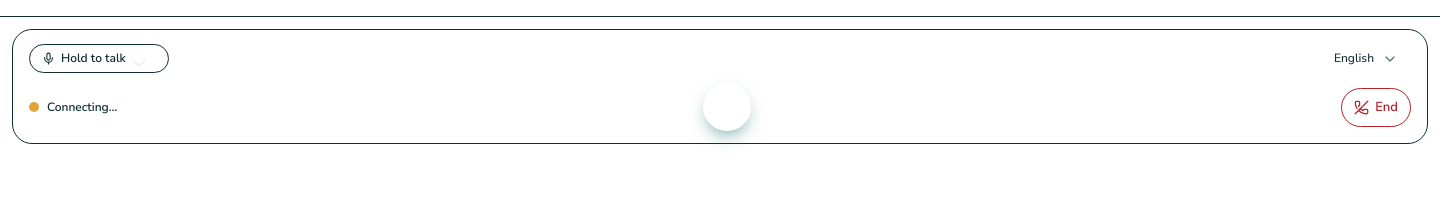
Scenario: voice language › shows a language the endpoint marks closed greyed, with its reason, and cannot be chosen
This screenshot has width=1440, height=211.
Click the dropdown named "Voice language" at (1366,59), box x1=1321 y1=42 x2=1411 y2=75
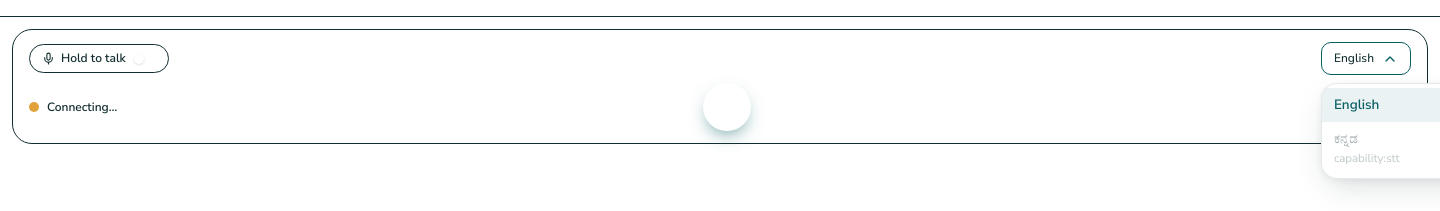
Check: the option "ಕನ್ನಡ capability:stt" is shown, box x1=1334 y1=129 x2=1400 y2=166
